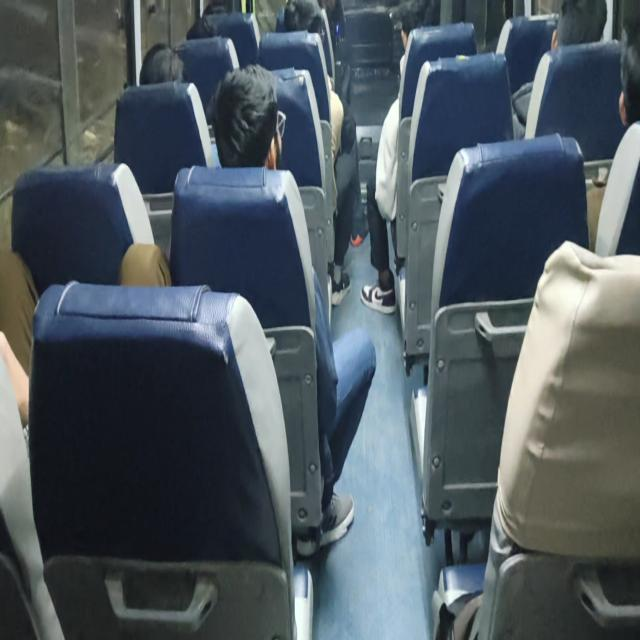person: (208, 62, 376, 548), (281, 0, 362, 306), (360, 11, 422, 315), (512, 0, 608, 138), (586, 39, 639, 254), (138, 42, 186, 84)
